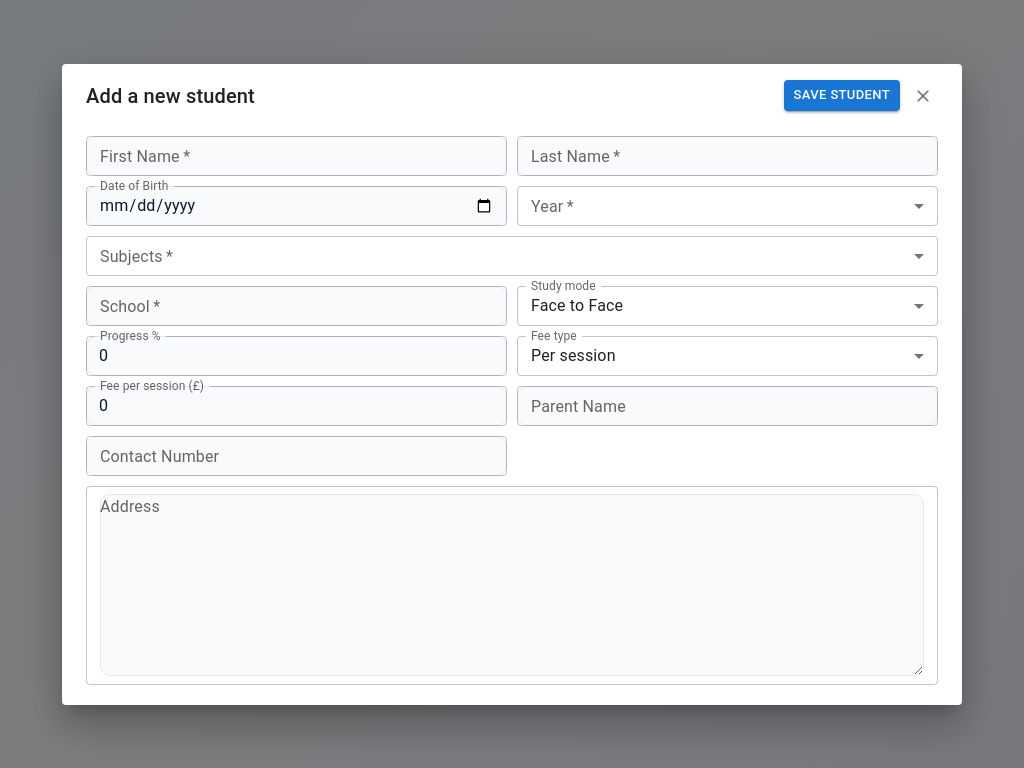
Test case: StudentFormModal › marks required fields on a Save attempt, and clears them on reopen (REQ-029)
The width and height of the screenshot is (1024, 768).
Expected: the text "First name is required" is not shown
Click the button "Save student": [842, 96] box [784,80,900,111]
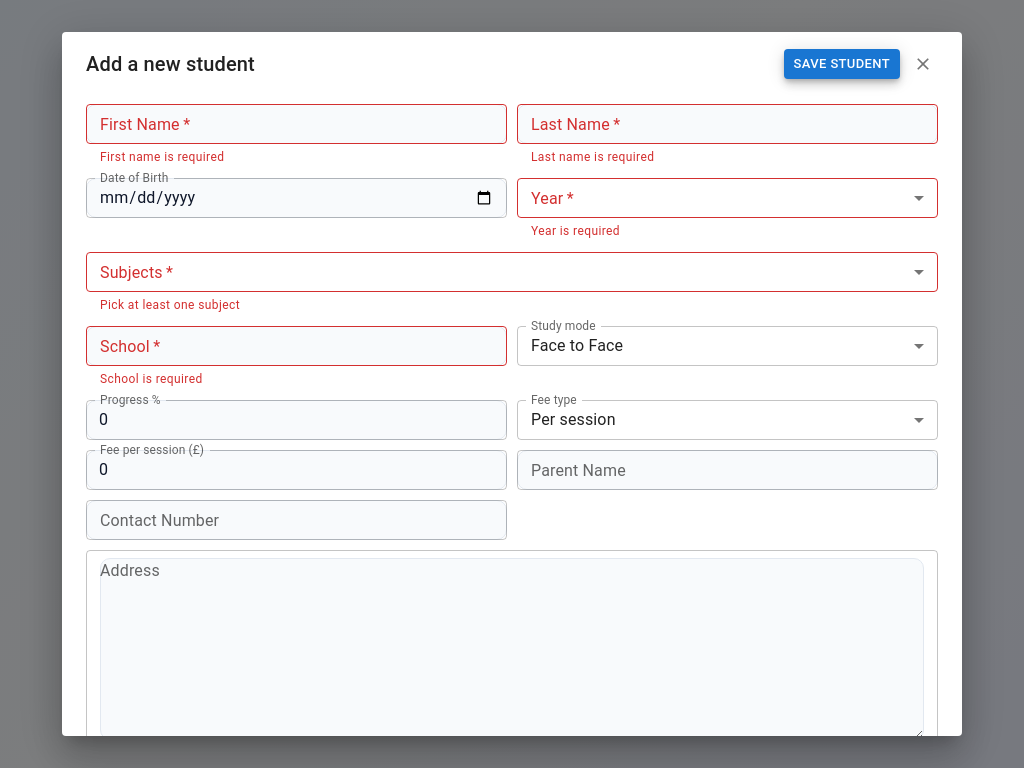
Result: the text "First name is required" is shown at [100,150,224,164]
Result: the text "Last name is required" is shown at [531,150,654,164]
Result: the text "Pick at least one subject" is shown at [100,298,240,312]
